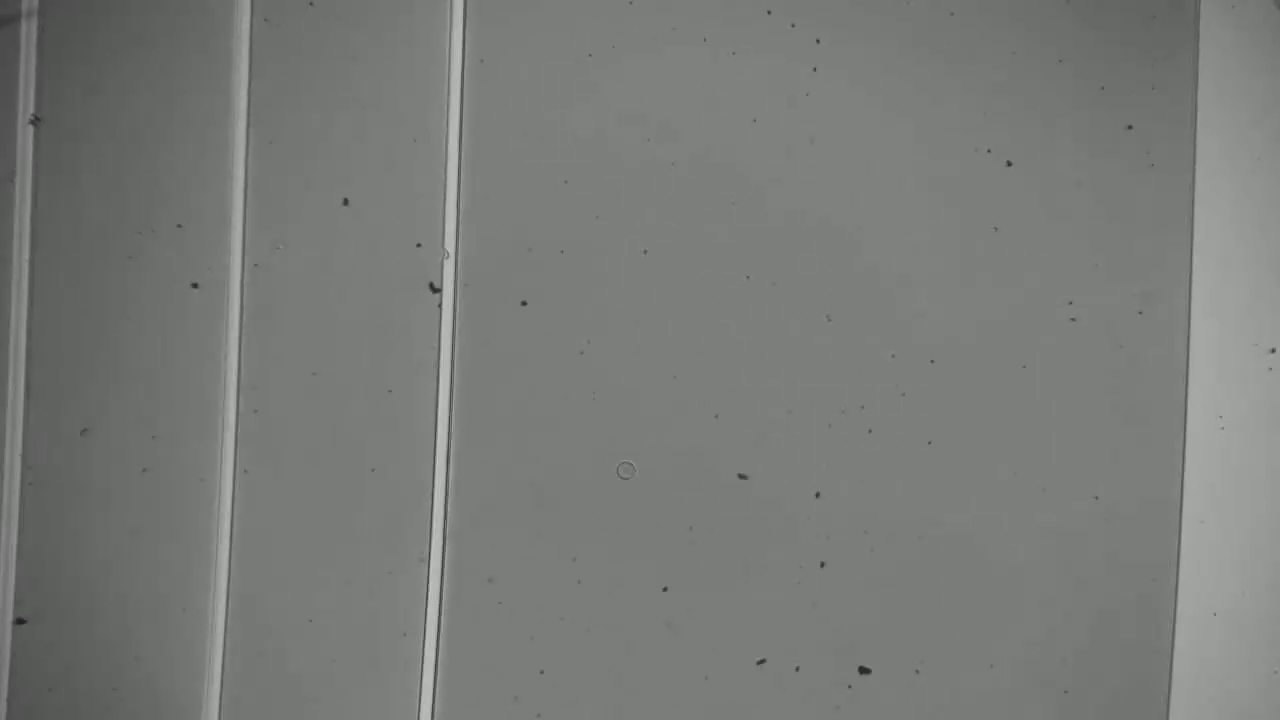edge_bite: (439, 238, 463, 266)
stains_enbedded: (11, 107, 47, 134)
